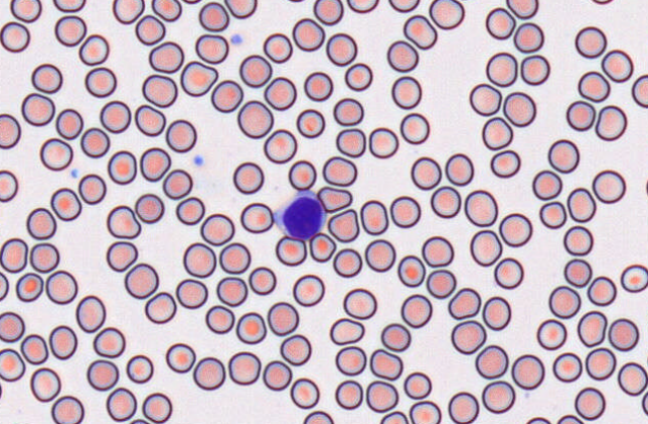LYM: (273, 192, 326, 240)
PLT: (229, 32, 243, 45), (193, 154, 204, 166), (71, 168, 80, 178)
RBC: (180, 60, 218, 96), (237, 100, 273, 138), (450, 319, 486, 354), (464, 189, 498, 226), (124, 262, 158, 298), (469, 229, 502, 266), (403, 14, 437, 49), (263, 128, 297, 163), (106, 205, 141, 239), (474, 344, 508, 379), (182, 242, 216, 277), (503, 91, 536, 127), (595, 104, 627, 141), (21, 92, 55, 126), (227, 351, 261, 385), (592, 169, 626, 203), (511, 354, 544, 389), (499, 212, 532, 247), (142, 74, 177, 107), (148, 41, 184, 73), (485, 51, 517, 87), (75, 295, 106, 332), (481, 380, 515, 413), (192, 356, 225, 390), (292, 17, 325, 51), (39, 137, 73, 170), (263, 76, 296, 110), (547, 138, 579, 173), (45, 269, 77, 304), (342, 287, 377, 319), (400, 293, 432, 328), (577, 310, 607, 347), (210, 79, 243, 112), (574, 25, 607, 58), (548, 285, 581, 318), (239, 54, 272, 87), (325, 32, 357, 66), (200, 213, 234, 245), (105, 387, 137, 421), (139, 147, 171, 181), (369, 348, 403, 380), (327, 208, 359, 242), (267, 301, 299, 335), (30, 367, 61, 402), (322, 155, 357, 186), (601, 49, 633, 82), (577, 70, 610, 102), (469, 83, 501, 116), (365, 380, 398, 412), (92, 326, 125, 358), (386, 39, 418, 72), (447, 287, 480, 319), (218, 242, 251, 274), (99, 100, 131, 133), (232, 161, 264, 194), (194, 33, 228, 64), (574, 386, 605, 420), (481, 116, 512, 150), (410, 156, 441, 190), (608, 317, 639, 351), (50, 187, 81, 221), (364, 238, 395, 272), (566, 187, 596, 222), (617, 361, 647, 396), (428, 0, 464, 29), (359, 199, 388, 235), (279, 333, 311, 365), (292, 274, 324, 306), (144, 291, 176, 323), (421, 235, 453, 267), (447, 391, 479, 423), (86, 359, 119, 390), (430, 185, 461, 218), (585, 347, 616, 380), (235, 311, 266, 344), (240, 202, 273, 233), (165, 119, 196, 152), (389, 195, 420, 228), (107, 150, 137, 184), (391, 75, 421, 109), (482, 295, 511, 330), (84, 66, 116, 97), (536, 318, 567, 350), (54, 15, 86, 46), (78, 33, 109, 65), (134, 104, 165, 136), (106, 240, 137, 272), (175, 278, 208, 308), (444, 153, 474, 186), (48, 325, 77, 359), (329, 317, 364, 345), (0, 237, 28, 272), (316, 185, 352, 212), (134, 14, 165, 45), (141, 392, 172, 423), (335, 345, 366, 376), (275, 235, 306, 266), (485, 7, 515, 39), (493, 257, 523, 289), (26, 207, 56, 239), (399, 112, 429, 144), (50, 395, 84, 423), (532, 169, 562, 200), (335, 127, 366, 157), (520, 54, 550, 85), (513, 22, 544, 52), (216, 276, 247, 306), (165, 342, 195, 373), (162, 168, 192, 199), (0, 21, 30, 52), (565, 100, 595, 131), (198, 1, 229, 31), (80, 127, 110, 158), (31, 63, 62, 93), (368, 127, 398, 158), (397, 254, 425, 287), (552, 352, 582, 382), (303, 71, 333, 101), (426, 268, 456, 298), (262, 360, 292, 390), (332, 247, 362, 277), (29, 242, 59, 272), (134, 193, 164, 223), (563, 225, 593, 255), (290, 377, 319, 408), (587, 275, 616, 306), (263, 32, 292, 63), (380, 322, 411, 351), (205, 304, 234, 334), (490, 149, 520, 178), (296, 108, 325, 138), (175, 196, 205, 225), (334, 379, 363, 409), (333, 97, 363, 126), (78, 173, 106, 204), (20, 333, 48, 364), (288, 159, 316, 190), (55, 108, 83, 139), (563, 258, 592, 287), (308, 232, 336, 262), (15, 272, 43, 302), (0, 348, 25, 381), (248, 266, 276, 295), (344, 62, 372, 91), (620, 263, 648, 292), (403, 371, 431, 399), (126, 354, 153, 383), (112, 0, 144, 24), (0, 113, 21, 149), (313, 0, 343, 25), (0, 311, 24, 342), (409, 400, 441, 423), (539, 201, 566, 228), (10, 0, 41, 22), (151, 0, 181, 21), (506, 0, 538, 19), (224, 0, 257, 18), (0, 169, 18, 202), (631, 74, 647, 108), (346, 0, 378, 13), (52, 0, 86, 12), (302, 410, 333, 423), (379, 410, 408, 423), (388, 0, 419, 12), (0, 271, 9, 300), (556, 414, 583, 423), (641, 390, 648, 416), (525, 416, 551, 423), (590, 0, 614, 5), (128, 418, 150, 423), (182, 0, 202, 4), (645, 175, 648, 200), (0, 380, 3, 402), (284, 0, 306, 3)
